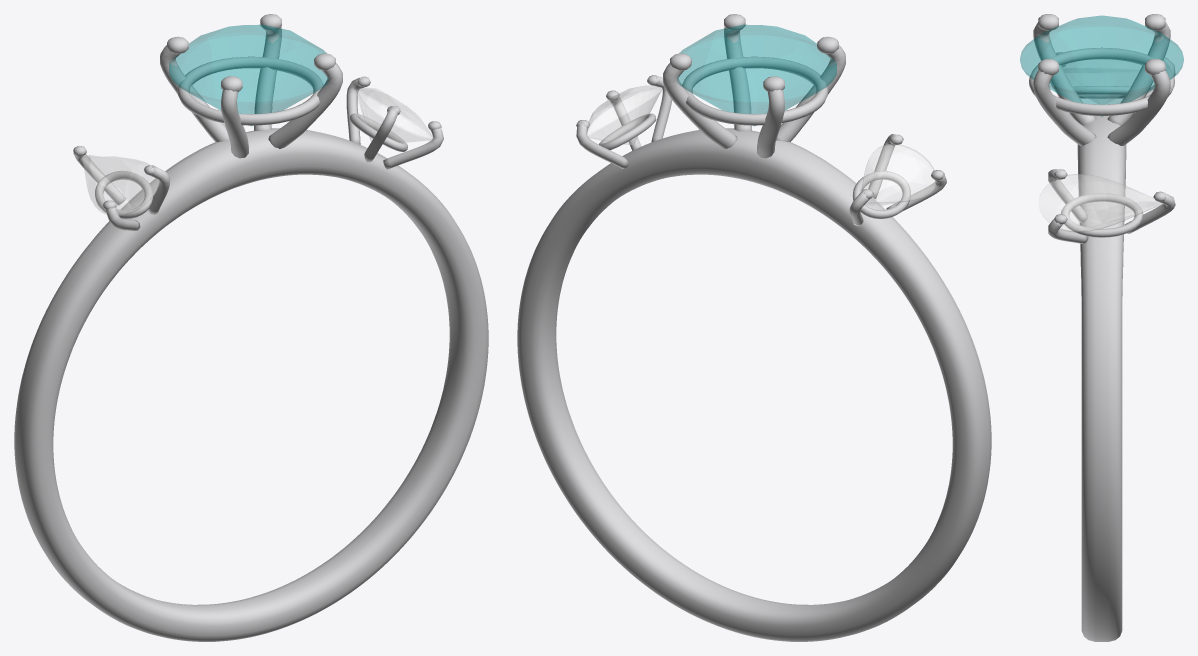
The model's file is ring-05.glb.
The picture shows the model from 3 angles, left to right: view 1: azimuth 30°, elevation 25°; view 2: azimuth 150°, elevation 25°; view 3: azimuth 270°, elevation 25°; orthographic projection.
Visible parts, largest first — view 1: Ring_05_Band, Ring_05_Settings, Ring_05_Sapphire, Ring_05_Pears; view 2: Ring_05_Band, Ring_05_Settings, Ring_05_Sapphire, Ring_05_Pears; view 3: Ring_05_Band, Ring_05_Settings, Ring_05_Sapphire, Ring_05_Pears.
Part boxes in pixels (<box>): Ring_05_Band: <box>14,128,488,641</box>; Ring_05_Settings: <box>73,14,443,231</box>; Ring_05_Sapphire: <box>169,25,328,126</box>; Ring_05_Pears: <box>82,88,433,215</box>; Ring_05_Band: <box>517,128,991,641</box>; Ring_05_Settings: <box>576,14,946,226</box>; Ring_05_Sapphire: <box>677,25,836,126</box>; Ring_05_Pears: <box>587,85,936,205</box>; Ring_05_Band: <box>1077,115,1126,641</box>; Ring_05_Settings: <box>1029,14,1175,243</box>; Ring_05_Sapphire: <box>1020,15,1183,116</box>; Ring_05_Pears: <box>1039,59,1163,231</box>.
Size of the model in its own units: 1.94 by 2.35 by 0.5996.
